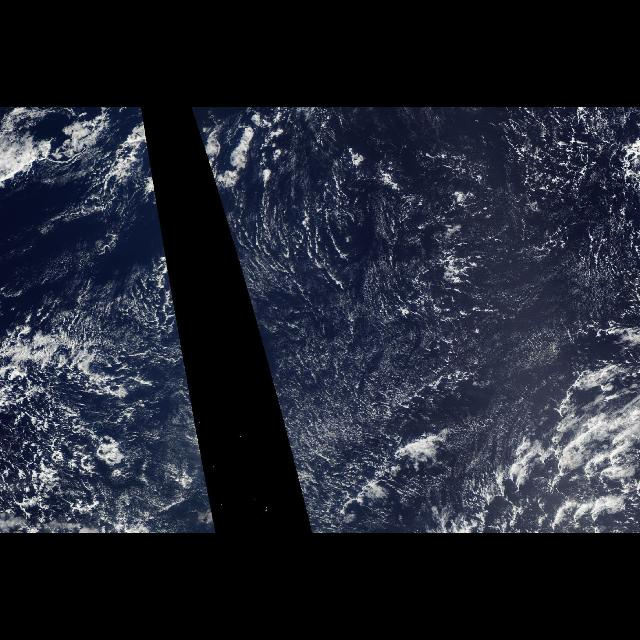Gravel: (292, 110, 640, 310), (1, 319, 186, 533), (254, 320, 640, 370)
Sugar: (262, 279, 578, 517)
